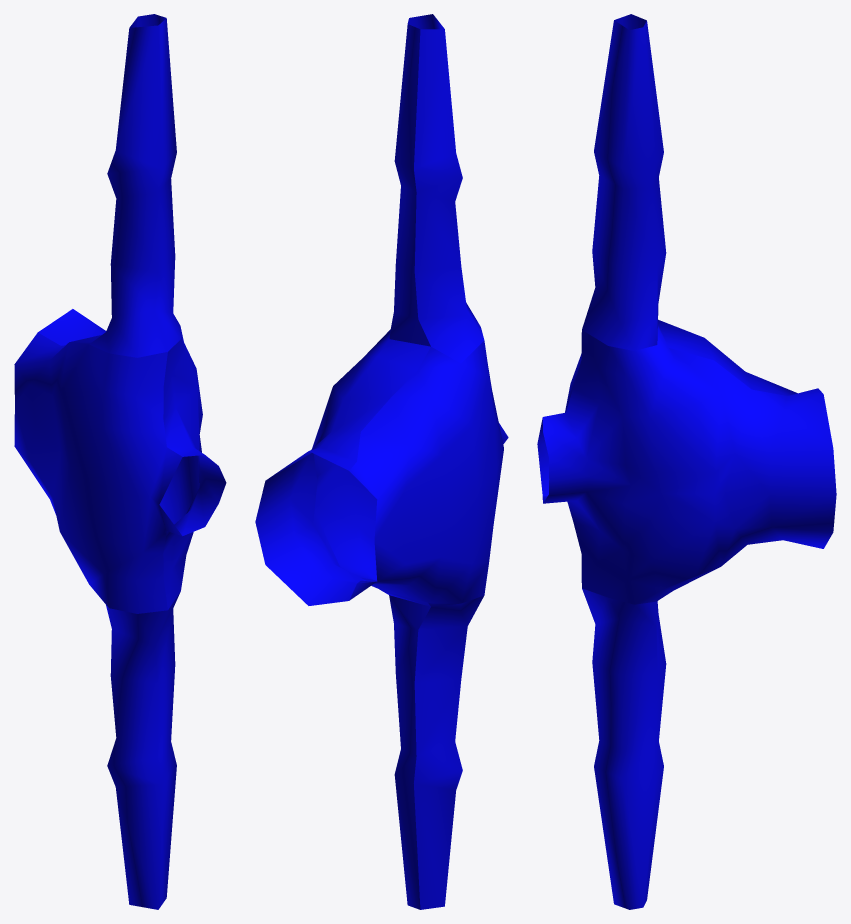
3 renders of one model, left to right at view 1: azimuth 30°, elevation 25°; view 2: azimuth 150°, elevation 25°; view 3: azimuth 270°, elevation 25°, orthographic.
Visible parts, largest first — view 1: 알몸_상체; view 2: 알몸_상체; view 3: 알몸_상체.
Boxes of the visible parts, x1=… form: 알몸_상체: x1=14, y1=14, x2=226, y2=909; 알몸_상체: x1=255, y1=14, x2=508, y2=909; 알몸_상체: x1=537, y1=14, x2=836, y2=909.
Bounding box in the file's own units: 24.18 × 144 × 44.31.
